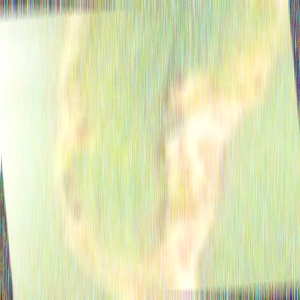Leaf_Blast: (63, 5, 257, 289)
